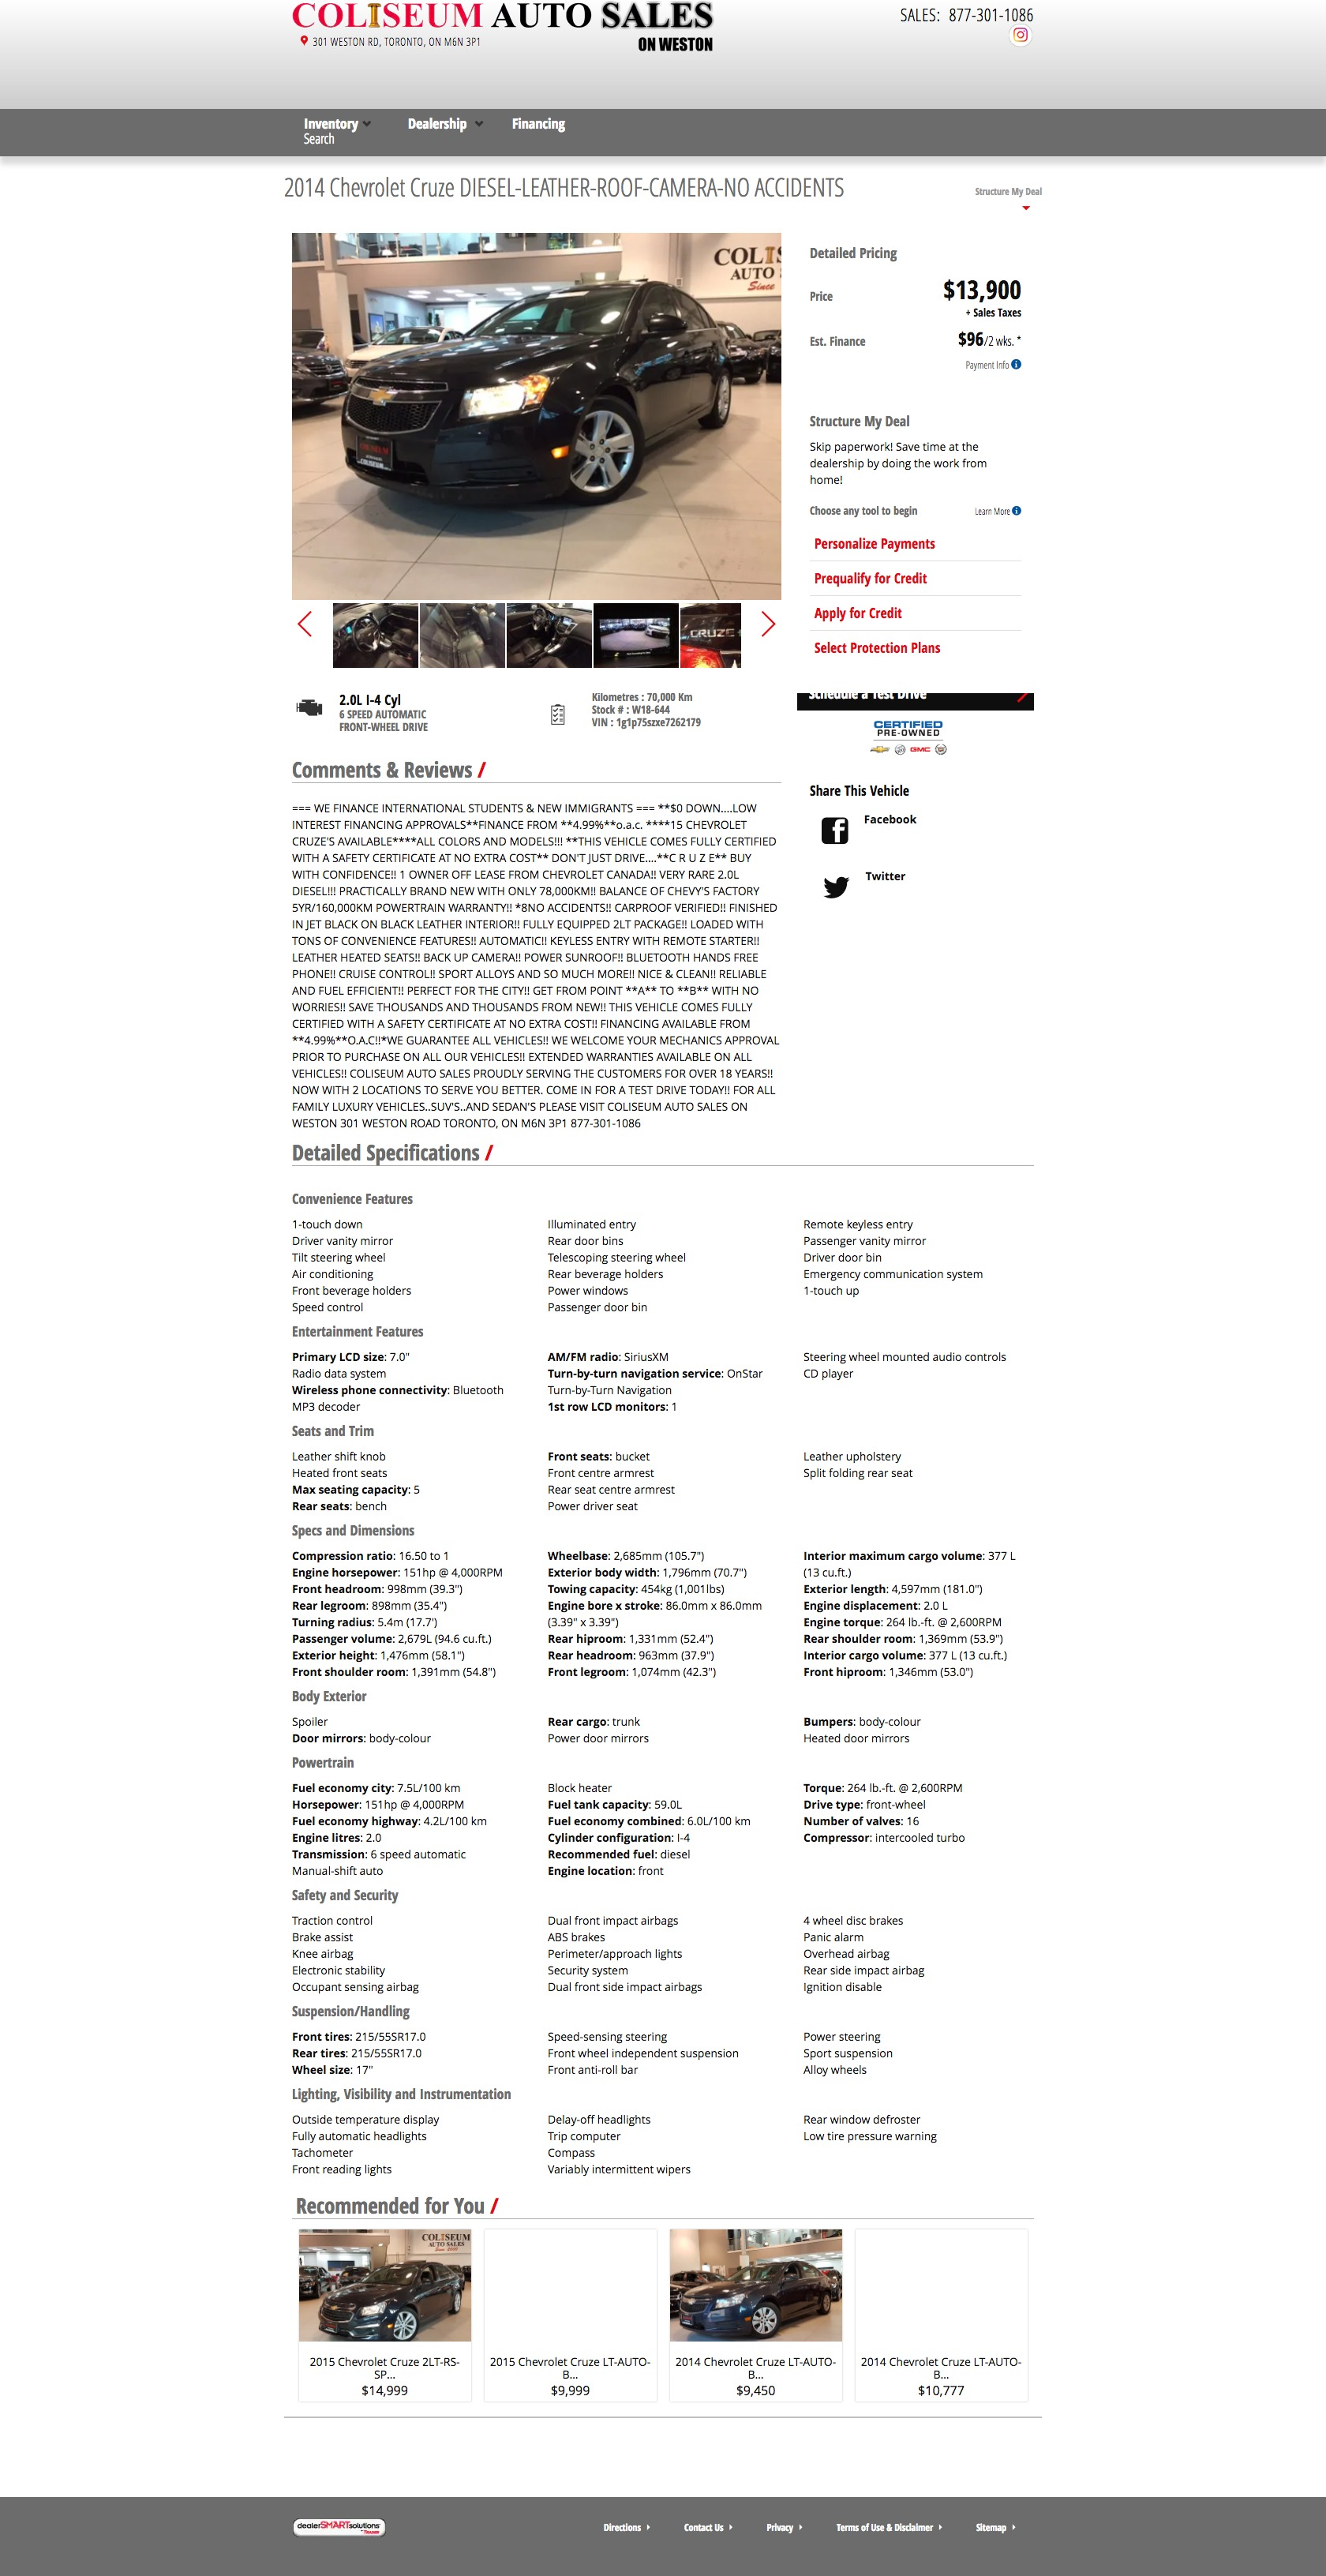car: (759, 611, 778, 639)
